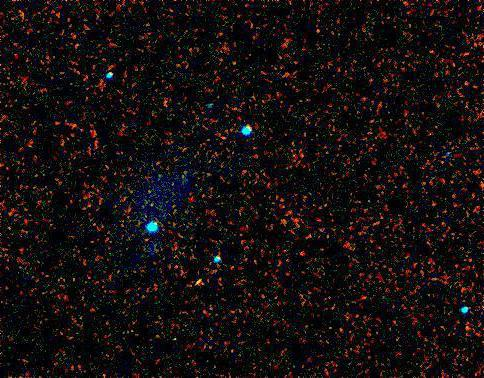star: (184, 268, 214, 298)
